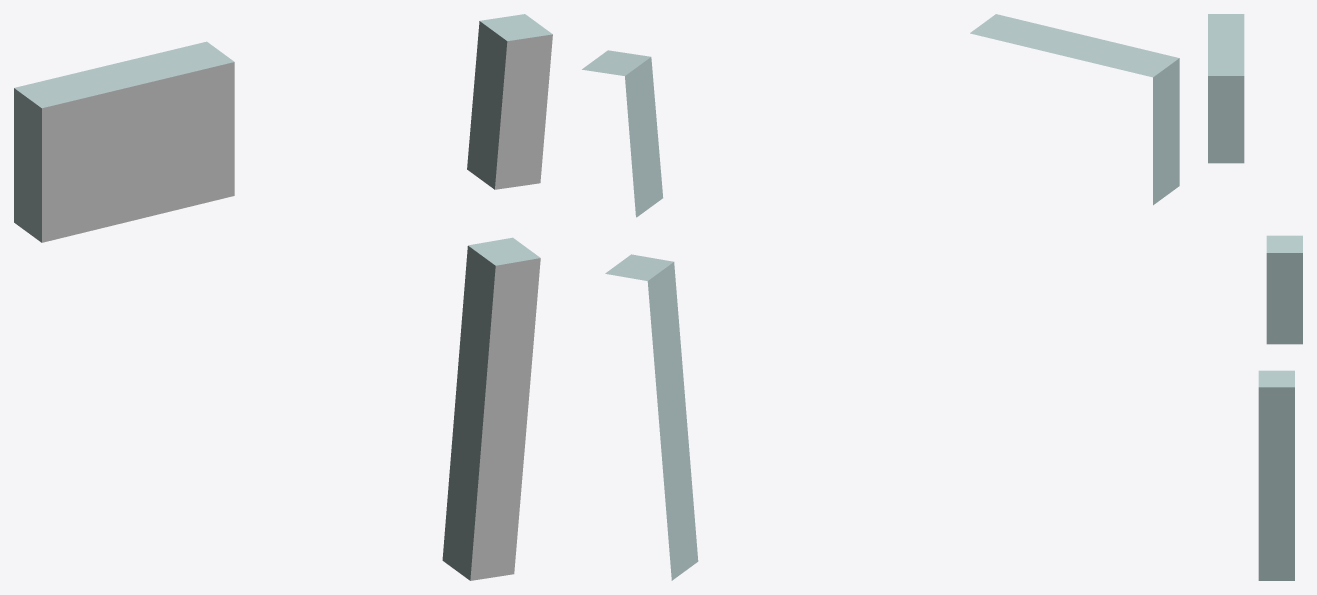
The picture shows the model from 3 angles, left to right: view 1: azimuth 30°, elevation 25°; view 2: azimuth 150°, elevation 25°; view 3: azimuth 270°, elevation 25°; orthographic projection. The views are drawn at different scales.
Visible parts, largest first — view 1: 0_2_3_3_3_1_1_0_2; view 2: 0_2_3_3_3_1_1_0_2; view 3: 0_2_3_3_3_1_1_0_2.
Boxes of the visible parts, left/top/right/bottom form: 0_2_3_3_3_1_1_0_2: left=14, top=14, right=552, bottom=580; 0_2_3_3_3_1_1_0_2: left=582, top=14, right=1179, bottom=580; 0_2_3_3_3_1_1_0_2: left=1208, top=14, right=1302, bottom=580.
Size of the model in its own units: 34.59 by 36.79 by 7.84.
